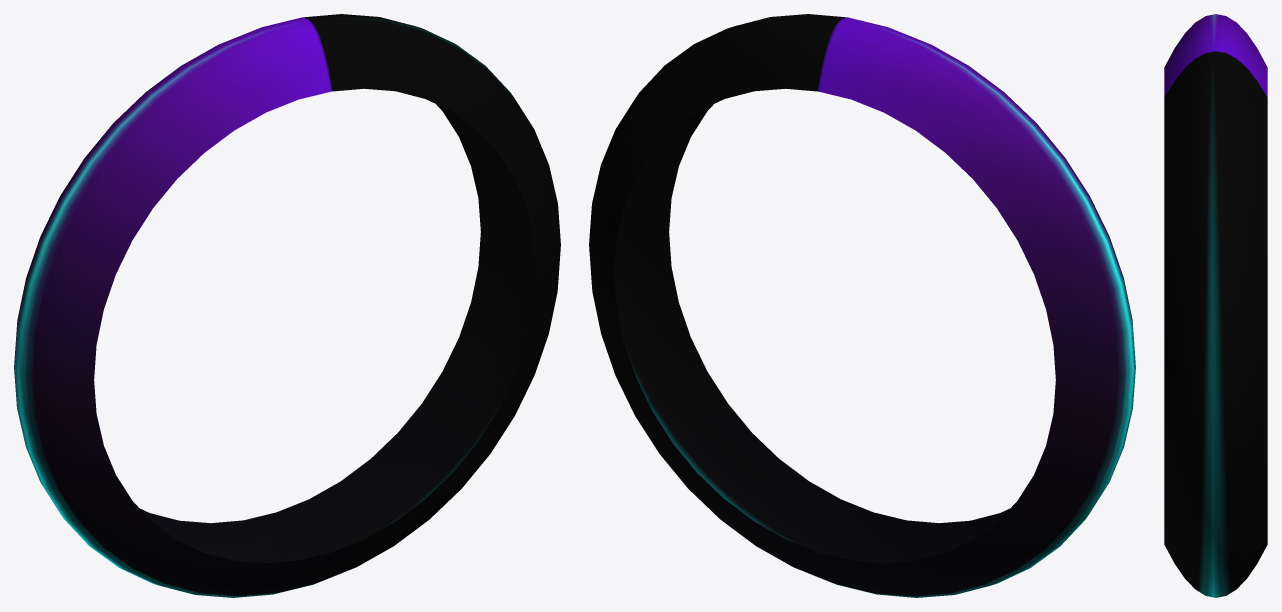
The model's file is Andrius_Scratch.fbx.
3 views of the same model, side by side, from view 1: azimuth 30°, elevation 25°; view 2: azimuth 150°, elevation 25°; view 3: azimuth 270°, elevation 25° (orthographic). The views are drawn at different scales.
Visible parts, largest first — view 1: Eff_Model_BladeTrail_32; view 2: Eff_Model_BladeTrail_32; view 3: Eff_Model_BladeTrail_32.
Boxes of the visible parts, <box> form: Eff_Model_BladeTrail_32: <box>14,14,560,597</box>; Eff_Model_BladeTrail_32: <box>589,14,1135,597</box>; Eff_Model_BladeTrail_32: <box>1164,14,1267,597</box>.
Bounding box in the file's own units: 117 × 117 × 20.68.
